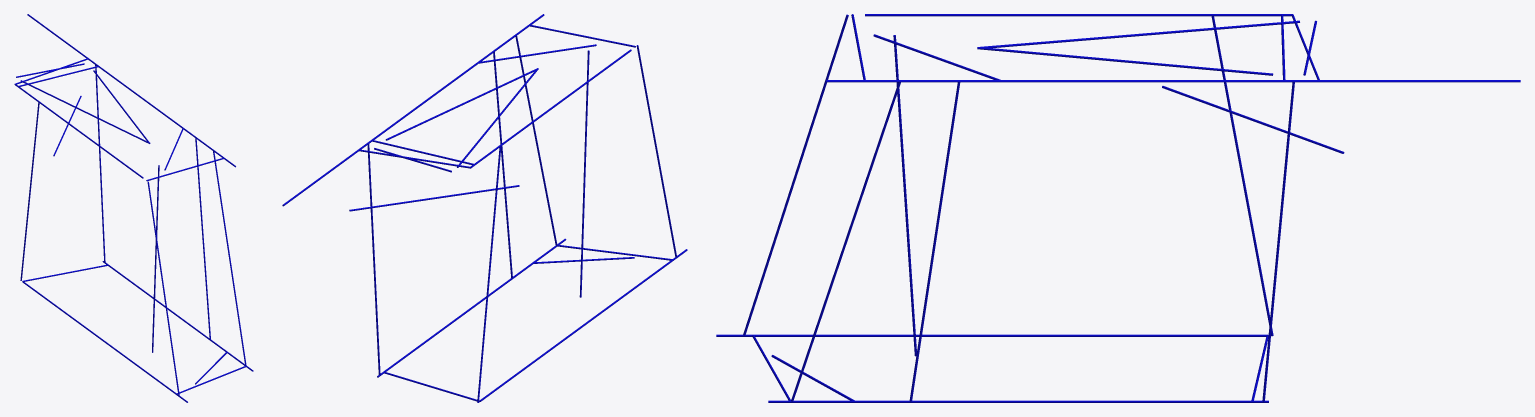
The model's file is corrected_3d_strokes.glb.
The picture shows the model from 3 angles, left to right: view 1: azimuth 30°, elevation 25°; view 2: azimuth 150°, elevation 25°; view 3: azimuth 270°, elevation 25°; orthographic projection. The views are drawn at different scales.
Parts seen in each view (by area): view 1: world; view 2: world; view 3: world.
Part boxes in pixels (x1,y1,x2,y2): world: (14,14,253,402); world: (282,14,687,402); world: (716,14,1520,402).
Bounding box in the file's own units: 2.52 × 5.64 × 12.75.
